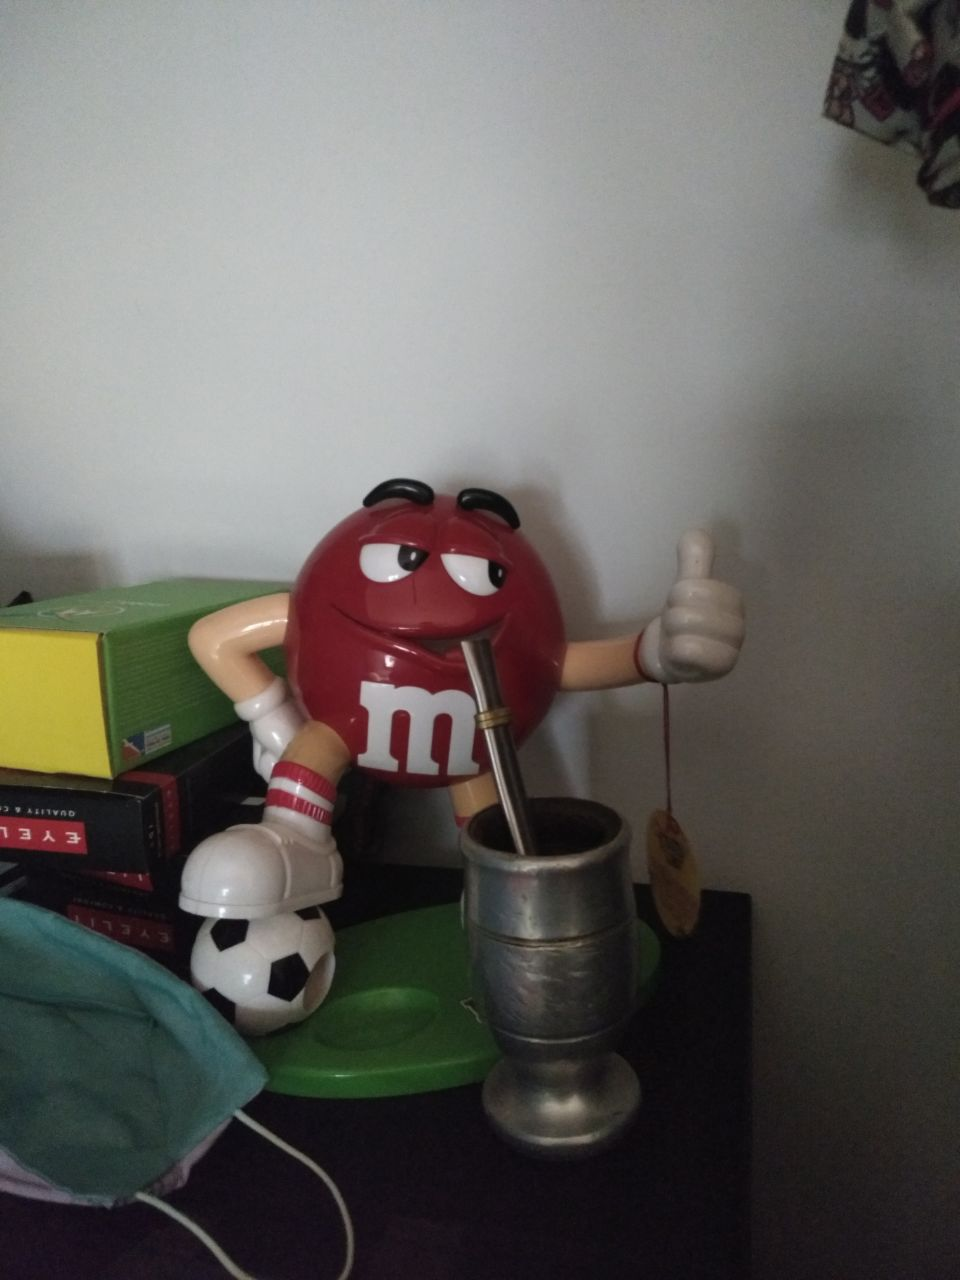mate: (455, 643, 643, 1151)
metal: (453, 641, 641, 1149)
